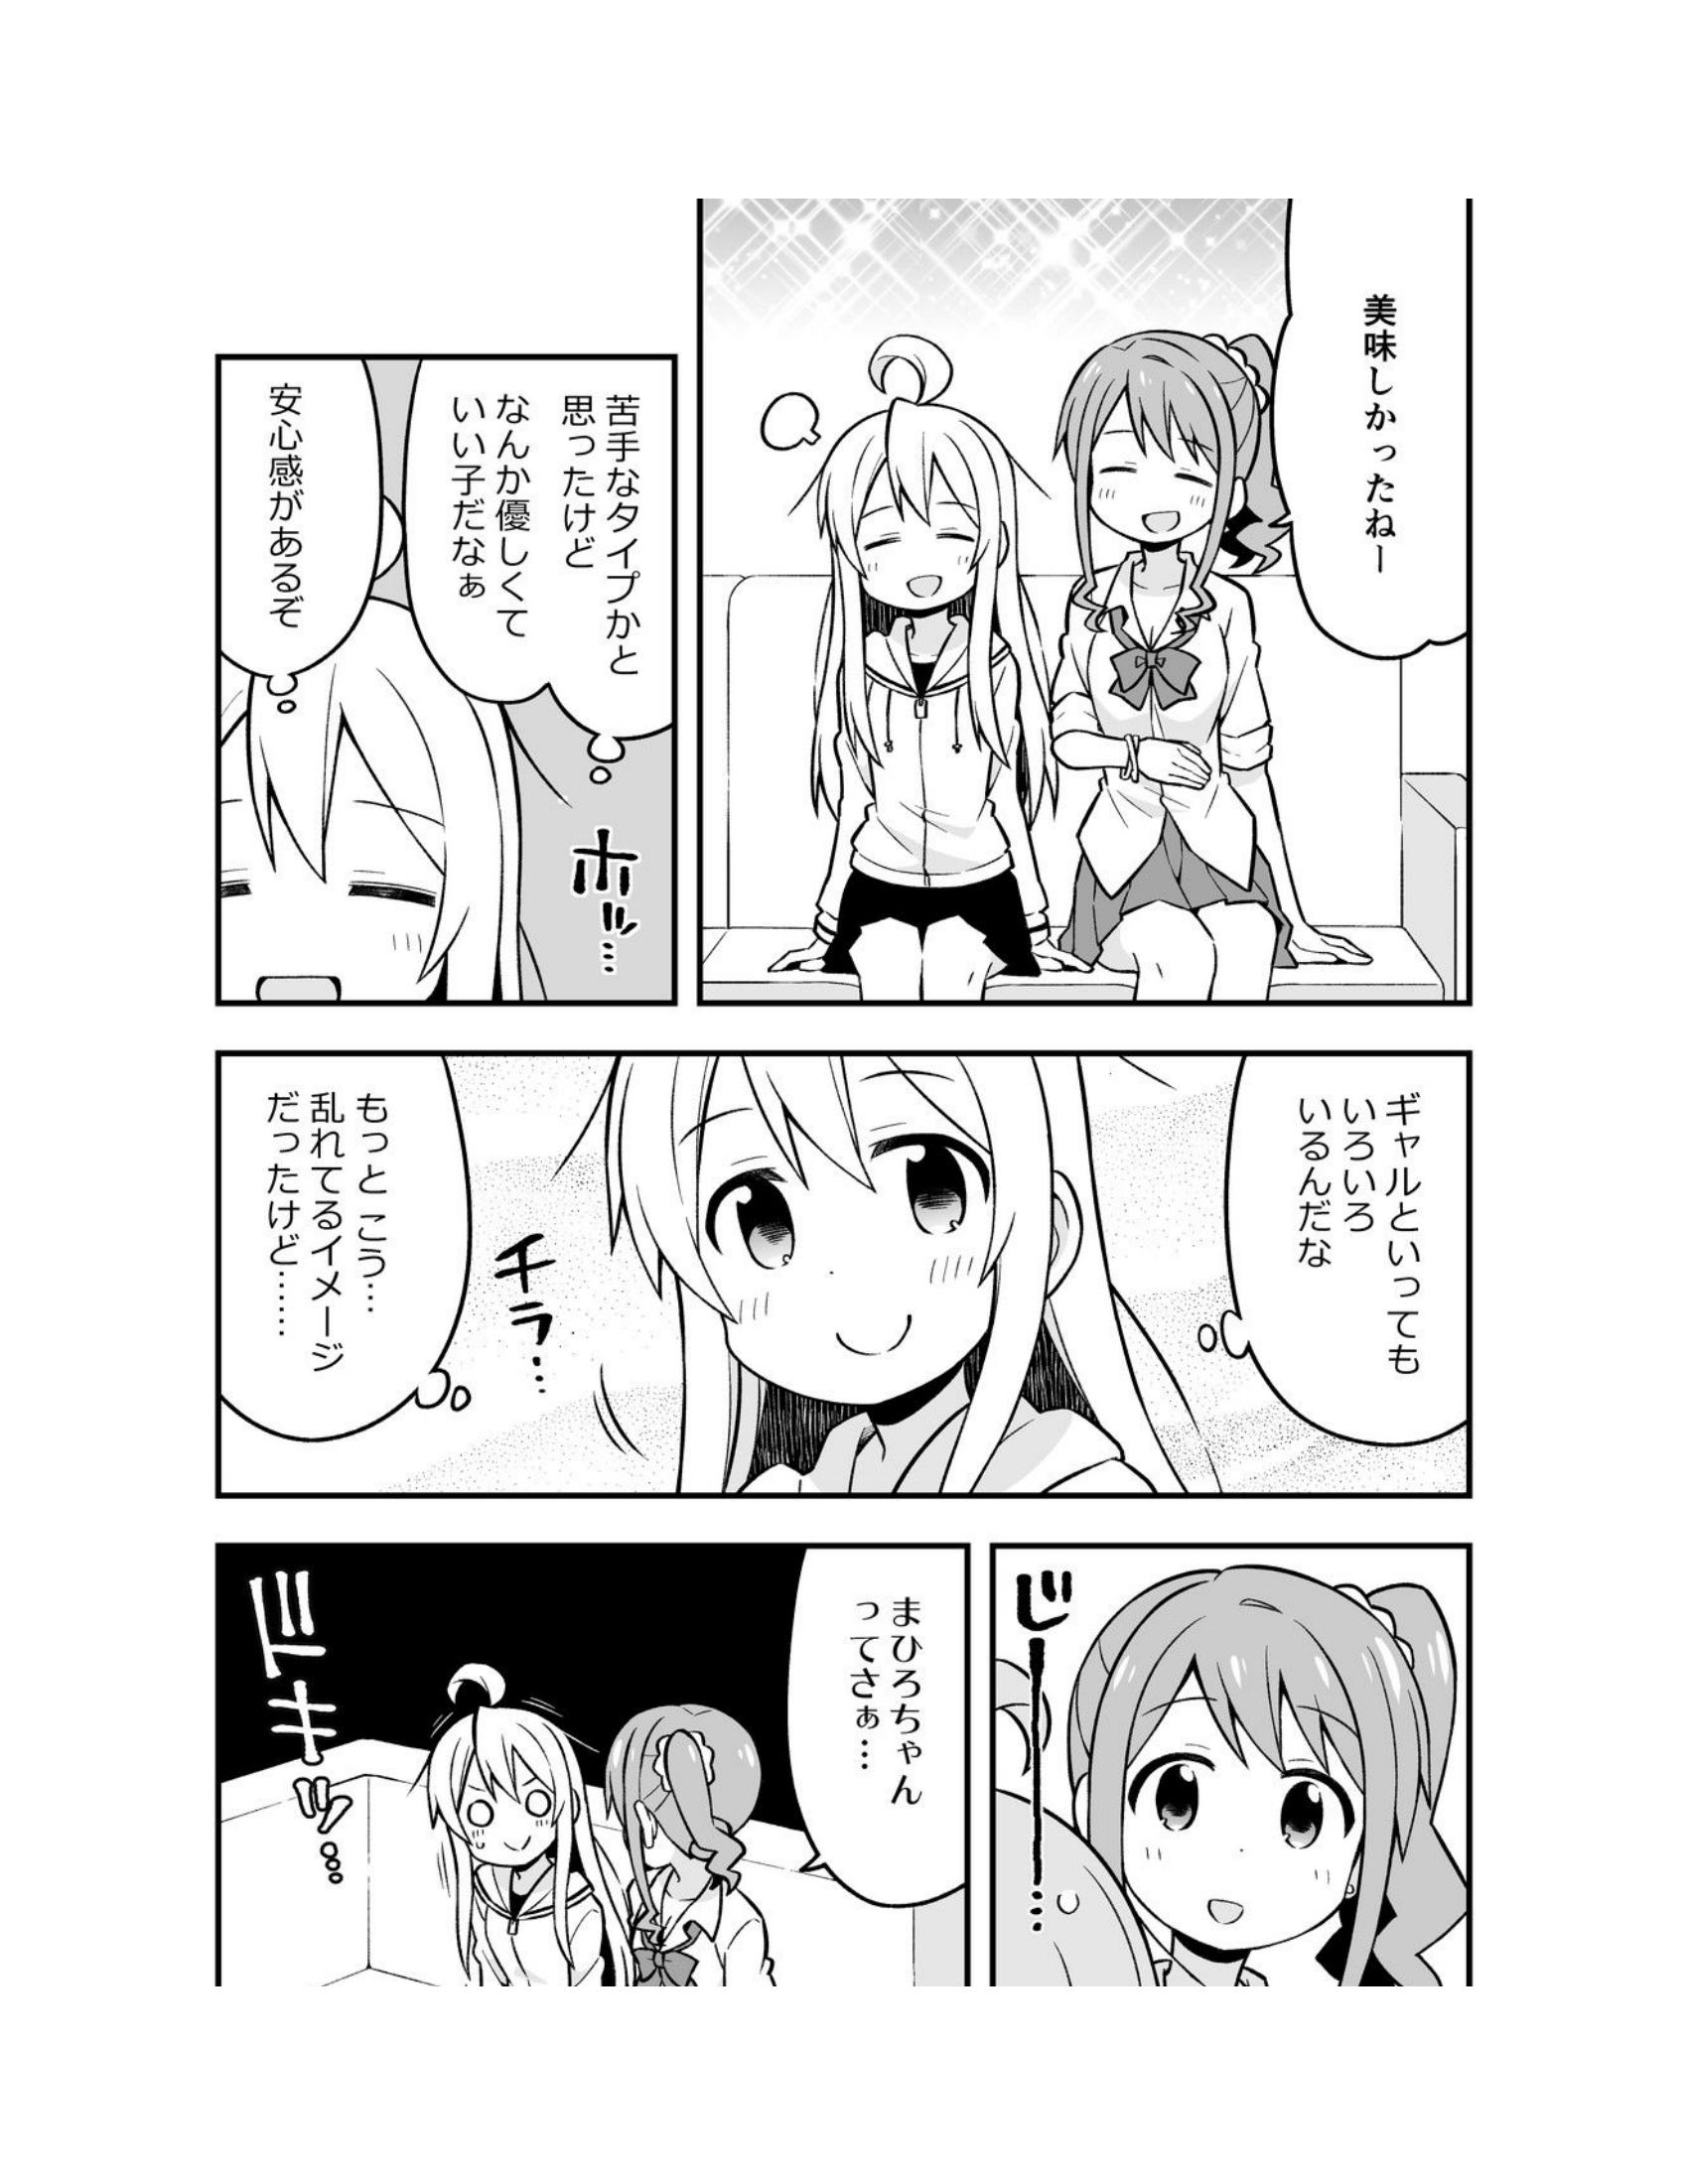a: (207, 1053, 486, 1434), (422, 353, 692, 734), (1220, 1037, 1459, 1464), (1280, 206, 1482, 667), (789, 1540, 968, 1925), (220, 337, 379, 730)
